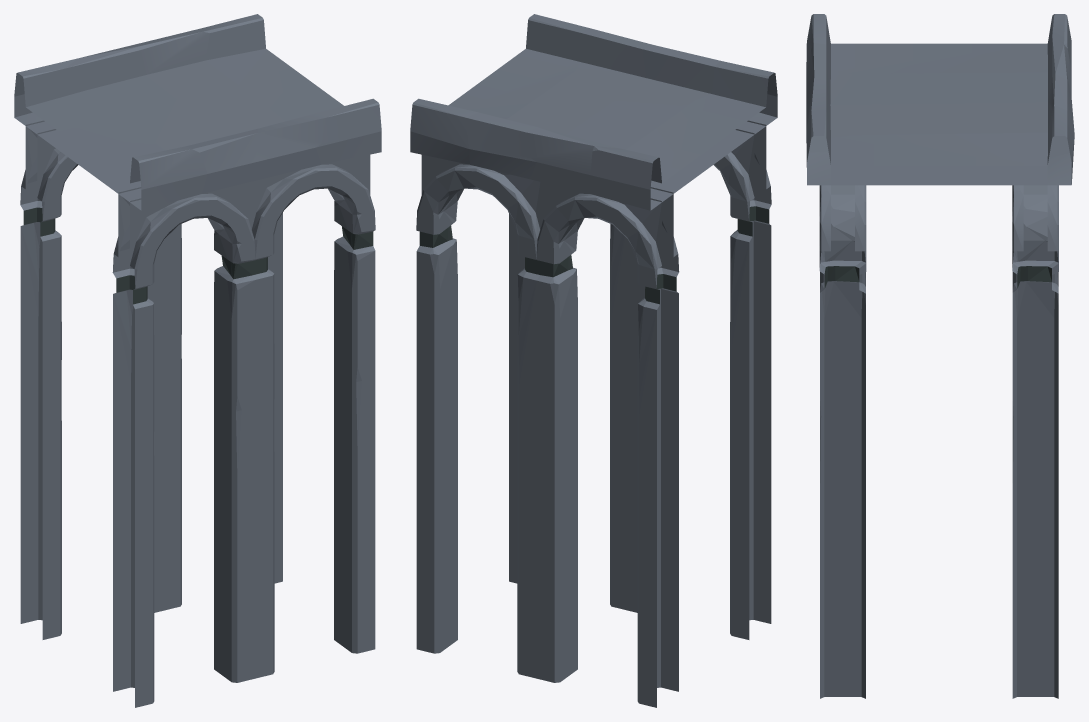
The model's file is Bridge_Mid.fbx.
3 views of the same model, side by side, from view 1: azimuth 30°, elevation 25°; view 2: azimuth 150°, elevation 25°; view 3: azimuth 270°, elevation 25° (orthographic). The views are drawn at different scales.
Parts seen in each view (by area): view 1: Bridge_Mid; view 2: Bridge_Mid; view 3: Bridge_Mid.
Boxes of the visible parts, x1,y1,x2,y2 form: Bridge_Mid: (14, 14, 381, 707); Bridge_Mid: (410, 14, 777, 707); Bridge_Mid: (806, 14, 1074, 698).
Size of the model in its own units: 600 by 1313 by 557.
